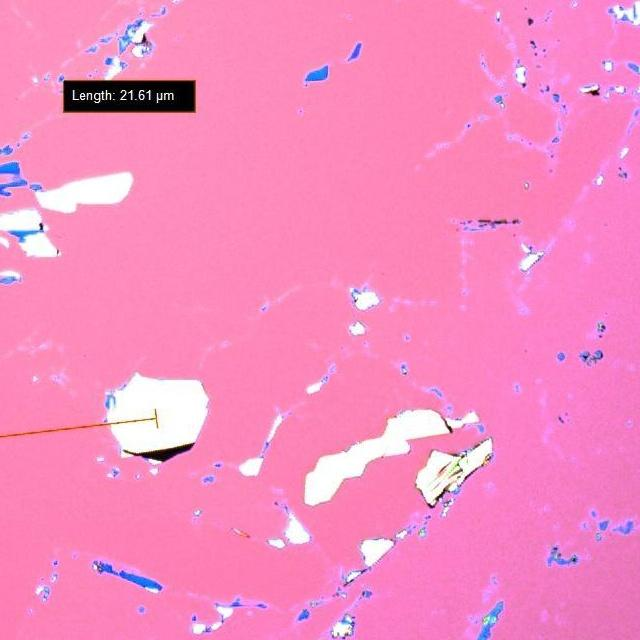monolayer-eWW4: (12, 174, 23, 180)
